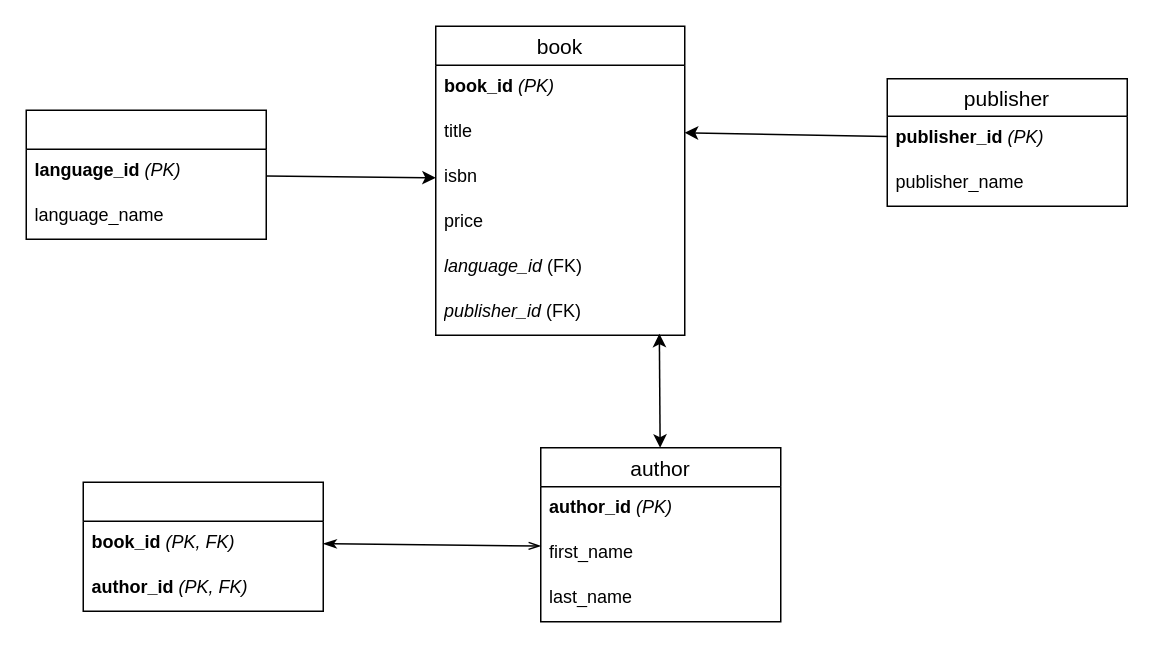
The diagram is 1154 pixels wide and 653 high, and some of its shapes have lost their labels. Here are the shapes that lost their labels. From the top down, the box of each, then its label:
(25, 109, 266, 239): book_language
(82, 481, 323, 611): book_author
